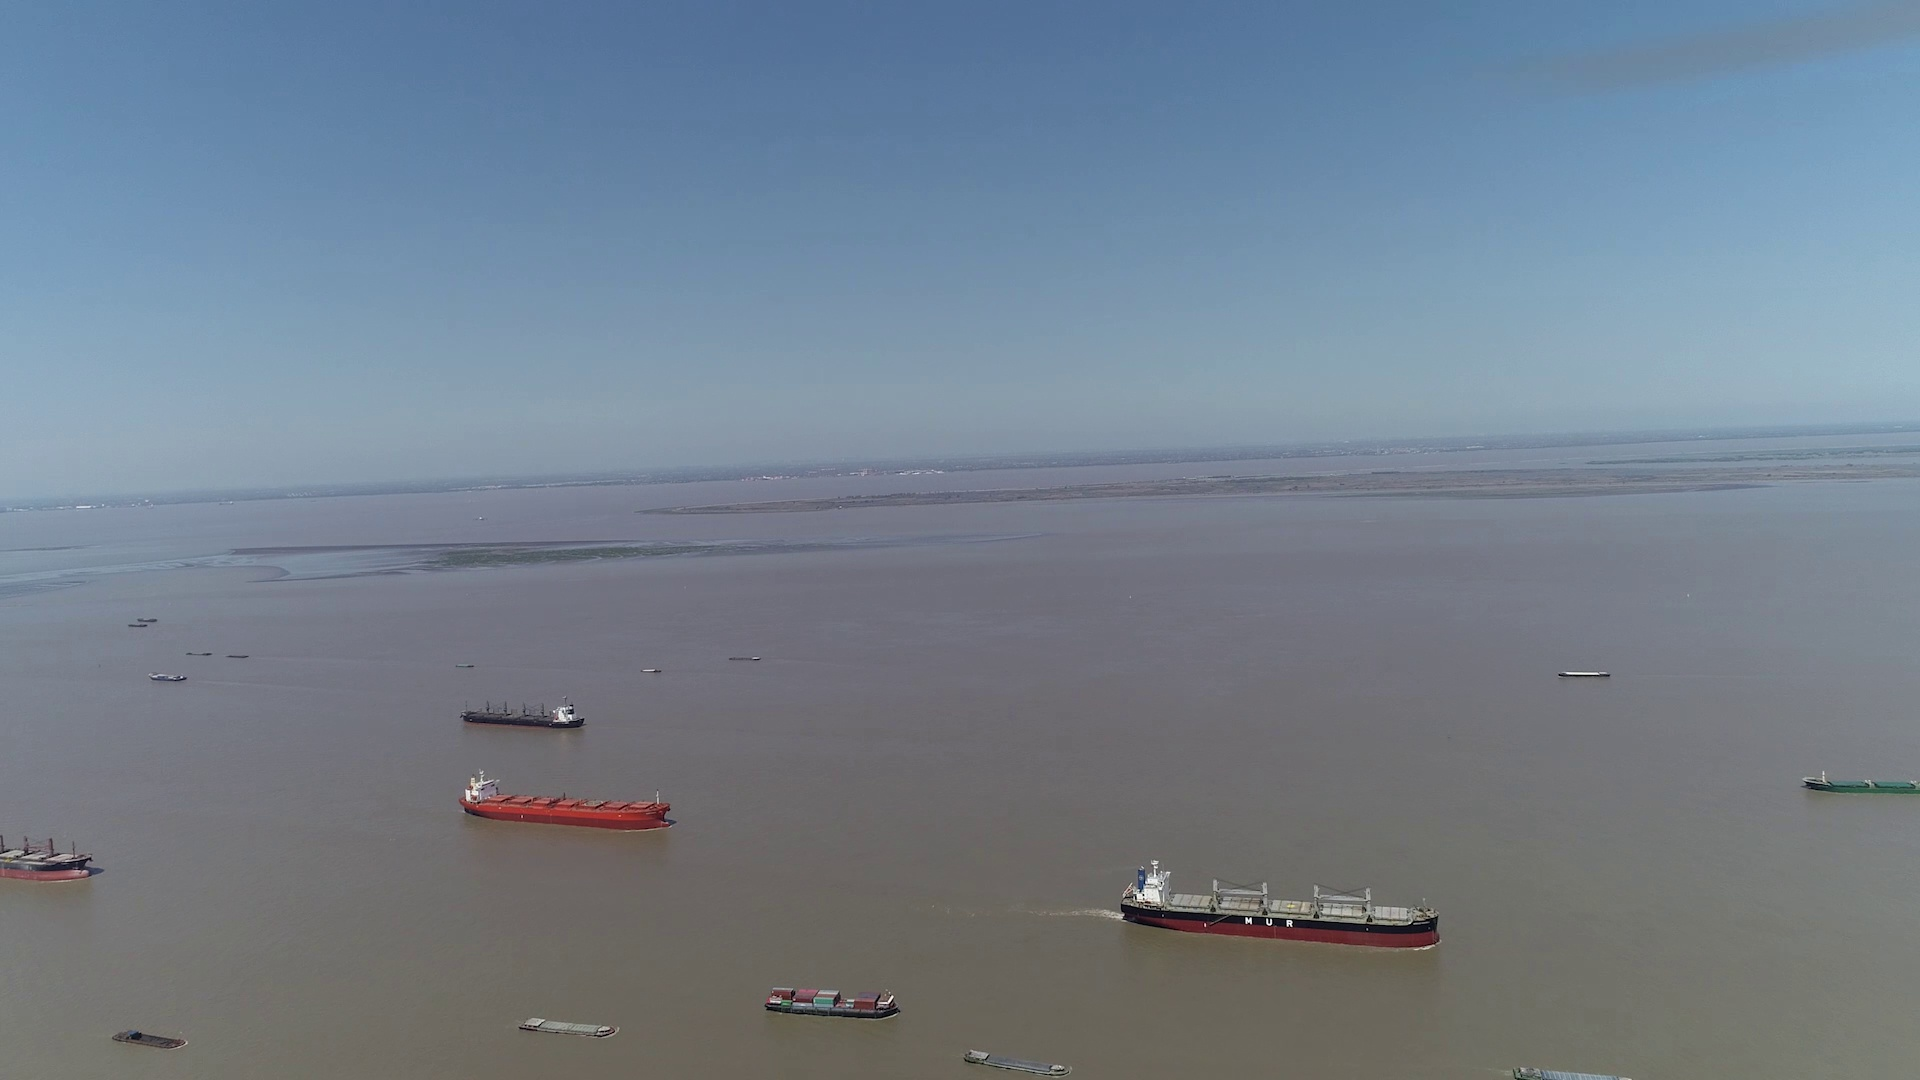ship: (1120, 861, 1443, 949), (458, 767, 669, 829), (0, 824, 98, 884), (764, 986, 899, 1021), (462, 696, 585, 728), (965, 1048, 1069, 1076), (1804, 771, 1920, 795), (520, 1017, 616, 1039), (1513, 1065, 1635, 1080), (113, 1029, 190, 1048), (1563, 669, 1610, 678), (148, 673, 186, 683)
